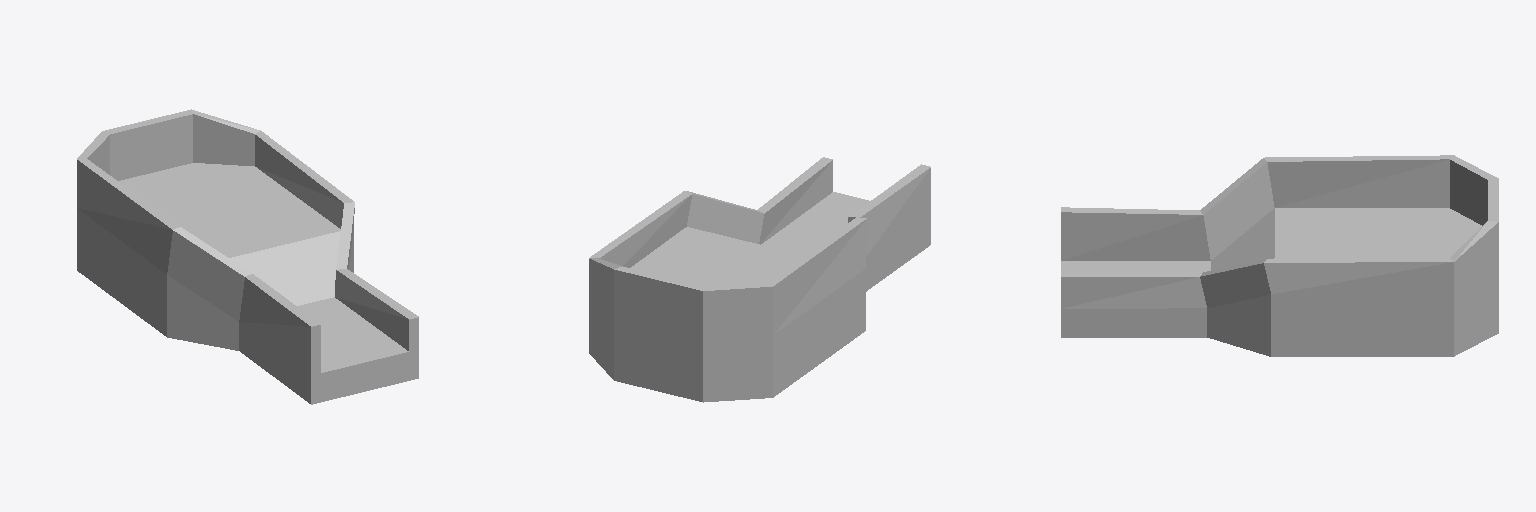
The model's file is ControllRoom.obj.
The picture shows the model from 3 angles: view 1: azimuth 30°, elevation 25°; view 2: azimuth 150°, elevation 25°; view 3: azimuth 270°, elevation 25°; orthographic projection.
Parts seen in each view (by area): view 1: pCube1; view 2: pCube1; view 3: pCube1.
Part boxes in pixels (x1,y1,x2,y2): pCube1: (77,109,418,404); pCube1: (589,157,930,402); pCube1: (1061,155,1498,356).
Size of the model in its own units: 10.69 by 6.1 by 21.7.